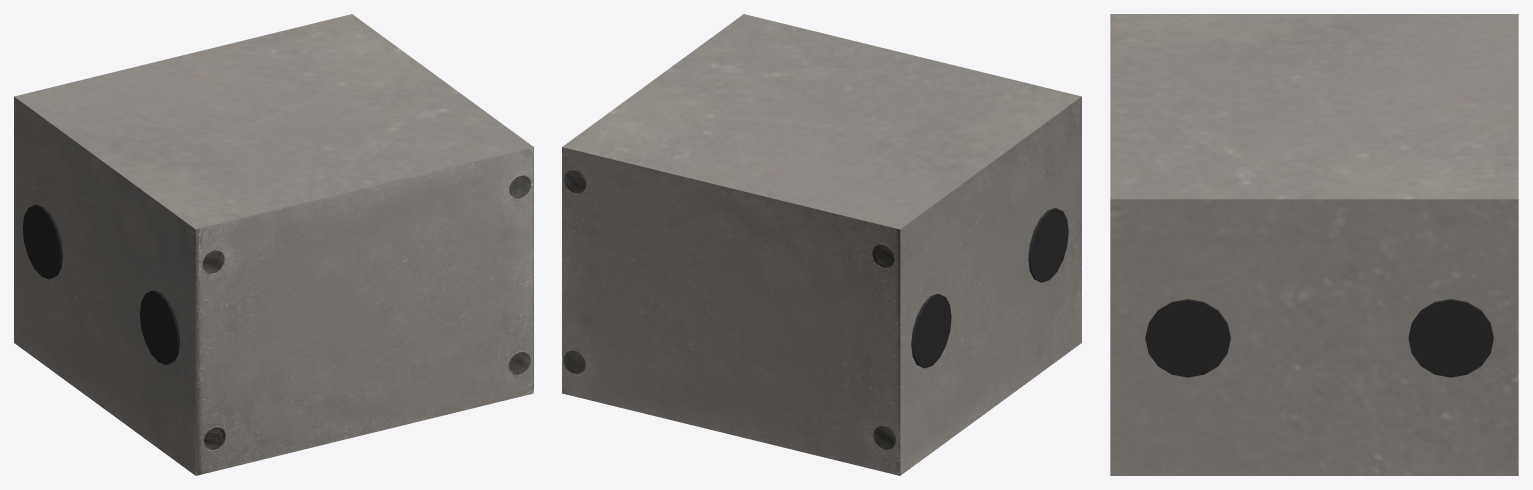
The model's file is GantryXAxis.fbx.
The picture shows the model from 3 angles, left to right: view 1: azimuth 30°, elevation 25°; view 2: azimuth 150°, elevation 25°; view 3: azimuth 270°, elevation 25°; orthographic projection. The views are drawn at different scales.
Parts seen in each view (by area): view 1: Hoist; view 2: Hoist; view 3: Hoist.
Part boxes in pixels (left/top/right/bottom): Hoist: left=14, top=14, right=533, bottom=475; Hoist: left=562, top=14, right=1081, bottom=475; Hoist: left=1110, top=14, right=1518, bottom=475.
Bounding box in the file's own units: 20.57 × 14.37 × 18.88.
